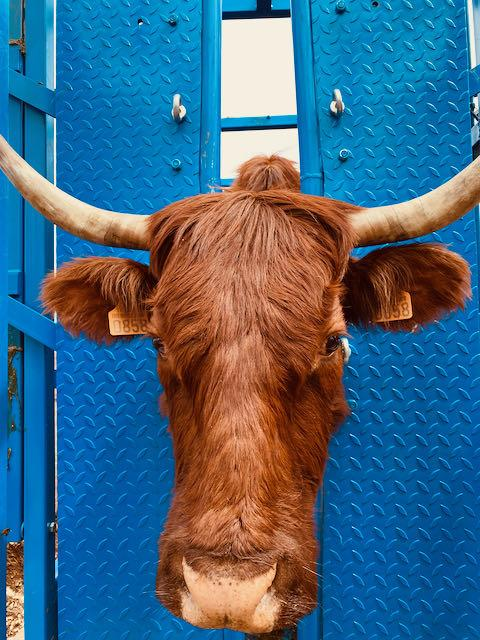muzzles: (155, 544, 313, 635)
